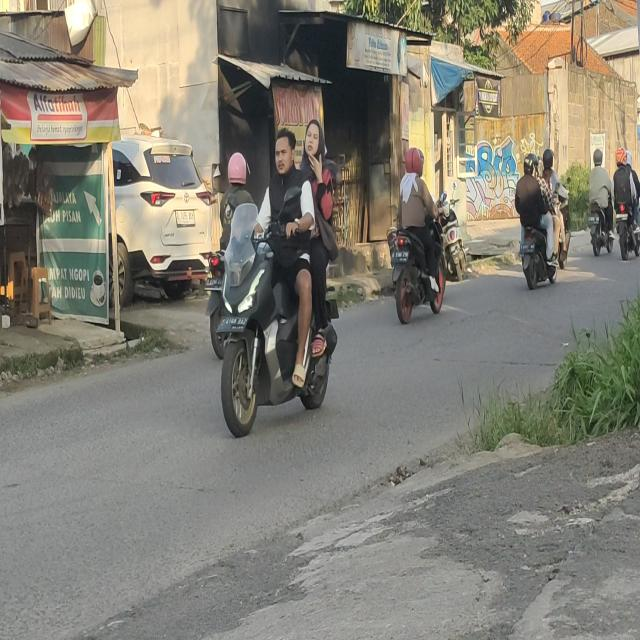helmet: (229, 151, 248, 187), (405, 148, 424, 178), (525, 153, 537, 177), (615, 147, 627, 166), (543, 150, 554, 169), (593, 149, 603, 166), (538, 157, 544, 176), (627, 150, 633, 168)
no-helmet: (274, 133, 294, 174), (303, 120, 323, 160)
